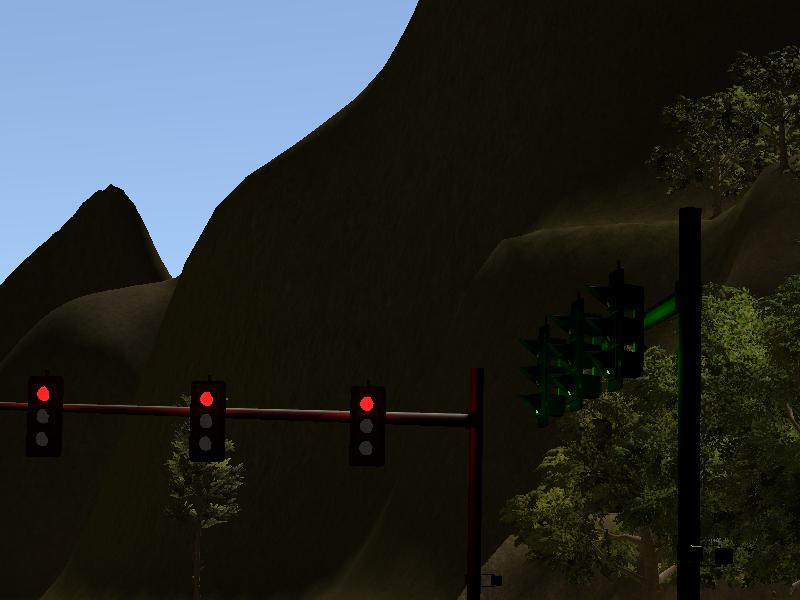Red: (191, 382, 223, 462), (30, 377, 62, 456), (351, 387, 383, 465)
